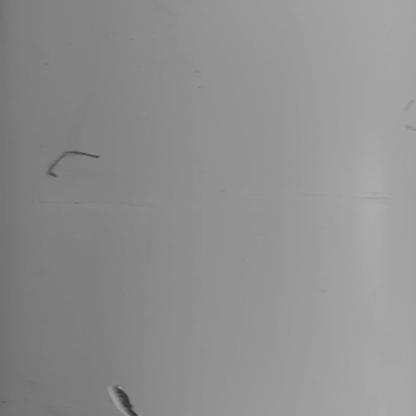fengxi: (31, 147, 110, 178)
kongdong: (99, 380, 150, 416)
